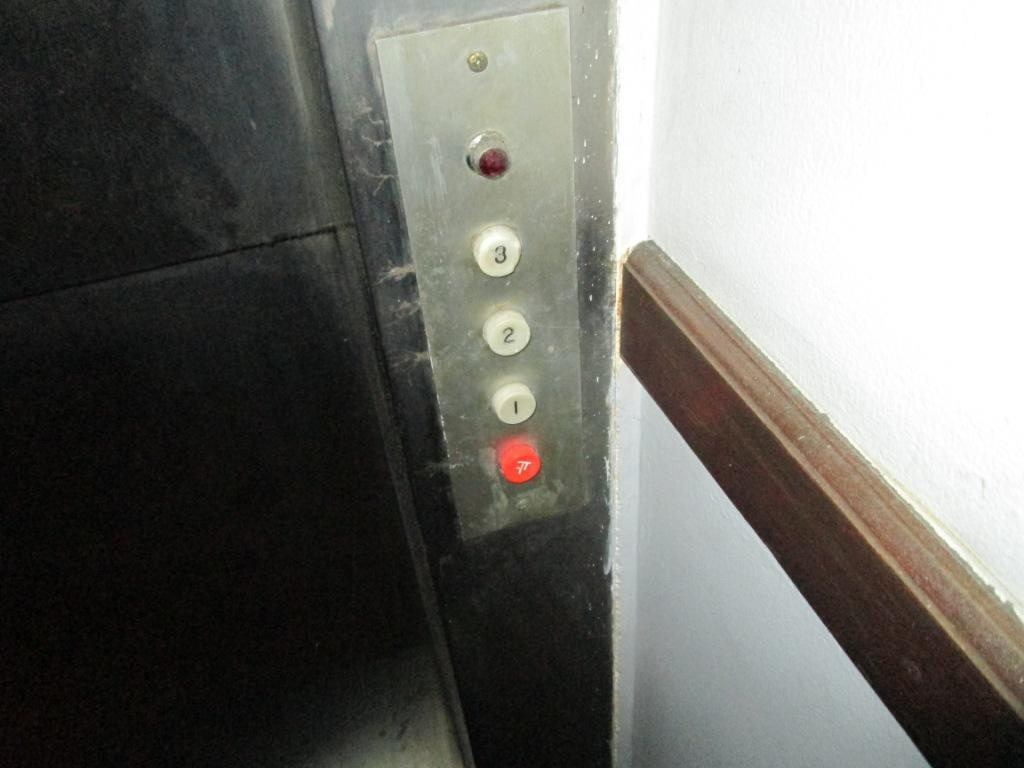1: (489, 382, 536, 426)
2: (482, 309, 532, 357)
3: (472, 222, 525, 280)
indicator: (464, 128, 514, 181)
unknown: (497, 442, 541, 485)
